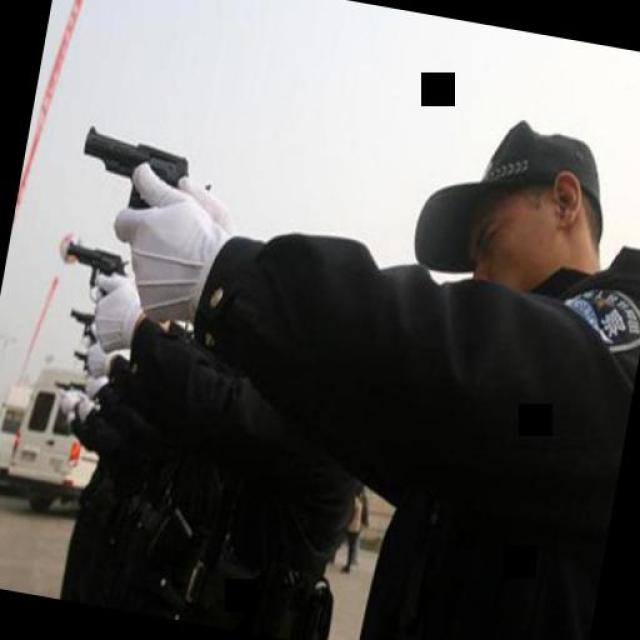gun: (74, 122, 218, 222), (55, 232, 134, 302), (61, 302, 104, 348), (66, 349, 92, 371), (64, 378, 82, 393)
